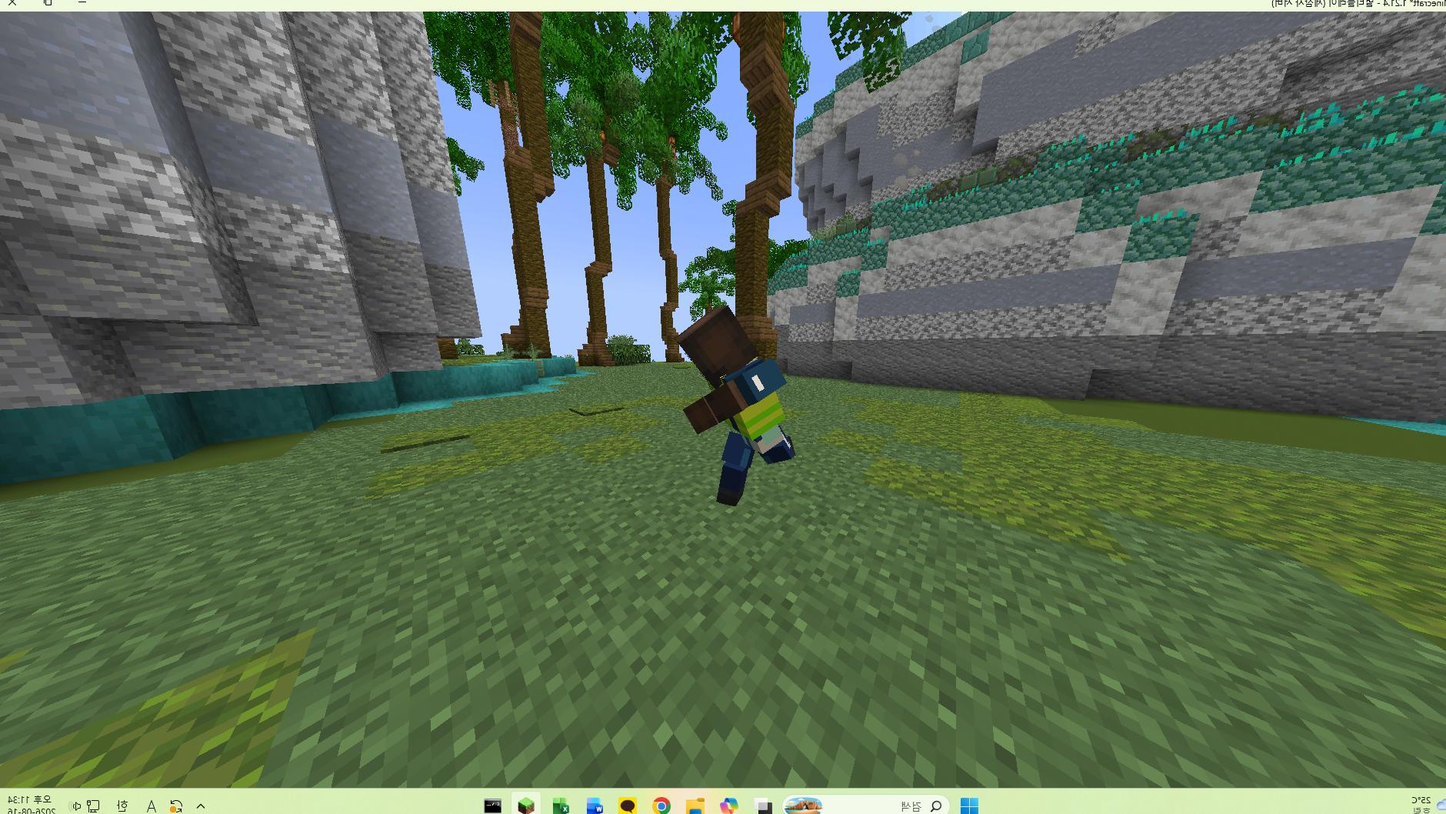Guardian: (679, 306, 795, 505)
